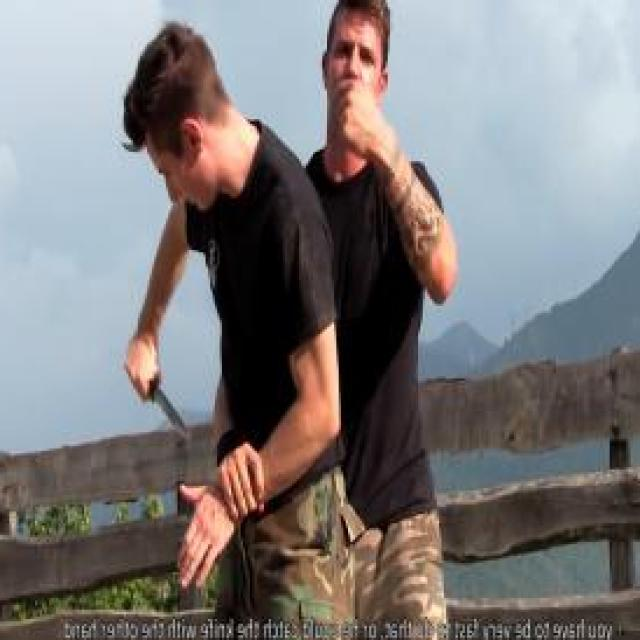knife: (117, 341, 196, 448)
